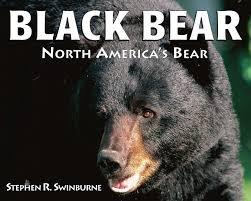bear: (0, 0, 246, 201)
